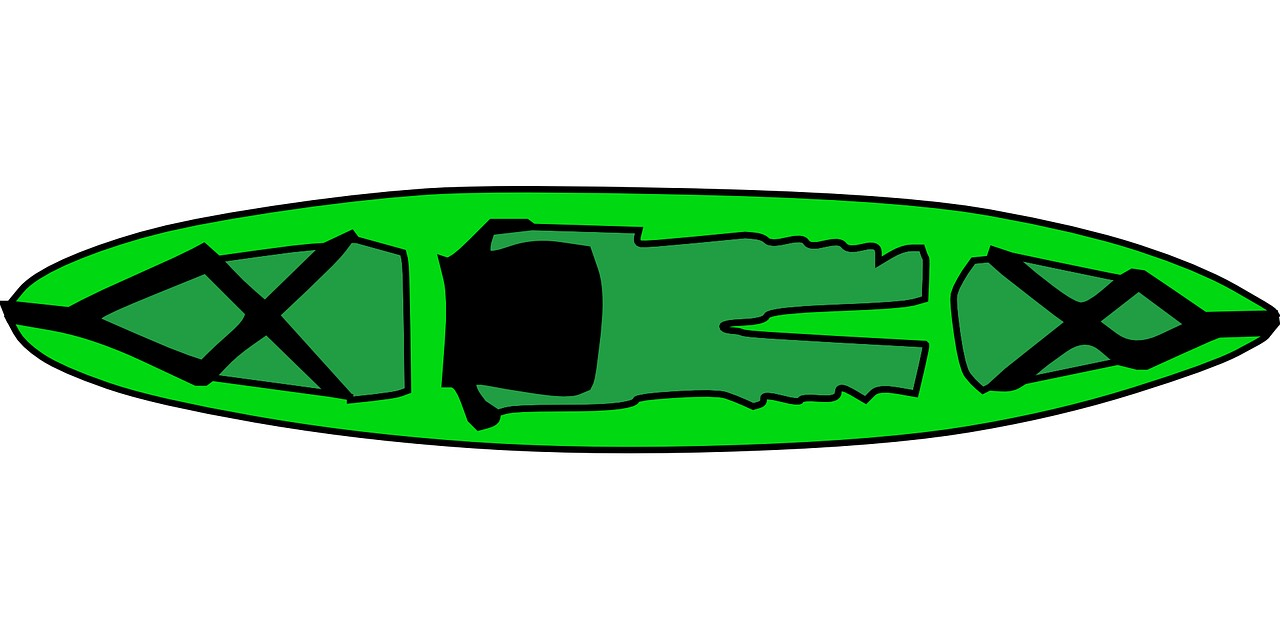kayak: (4, 181, 1280, 455)
